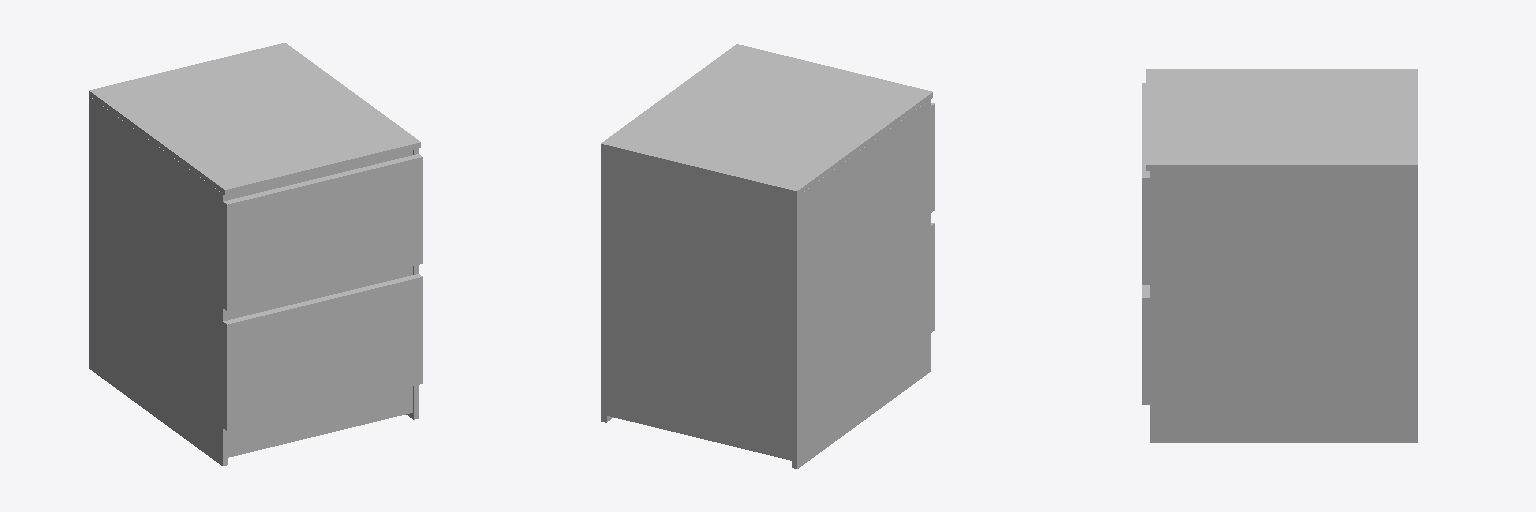
Rendered from МАЛЬМ.obj.
3 renders of one model, left to right at view 1: azimuth 30°, elevation 25°; view 2: azimuth 150°, elevation 25°; view 3: azimuth 270°, elevation 25°, orthographic.
Parts seen in each view (by area): view 1: Cube.002_Cube.003, Cube.005_Cube.006, Cube.003_Cube.004; view 2: Cube.002_Cube.003, Cube.003_Cube.004, Cube.005_Cube.006; view 3: Cube.002_Cube.003, Cube.005_Cube.006.
Boxes of the visible parts, x1,y1,x2,y2 form: Cube.002_Cube.003: [89, 43, 420, 465]; Cube.005_Cube.006: [223, 154, 422, 430]; Cube.003_Cube.004: [228, 150, 412, 457]; Cube.002_Cube.003: [601, 44, 932, 468]; Cube.003_Cube.004: [606, 151, 791, 460]; Cube.005_Cube.006: [931, 103, 934, 332]; Cube.002_Cube.003: [1146, 69, 1417, 442]; Cube.005_Cube.006: [1142, 83, 1149, 404].
Size of the model in its own units: 0.797 by 1.08 by 0.9699.